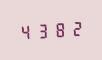eight: (50, 20, 65, 38)
four: (18, 22, 33, 41)
three: (34, 21, 49, 40)
two: (66, 18, 81, 37)
